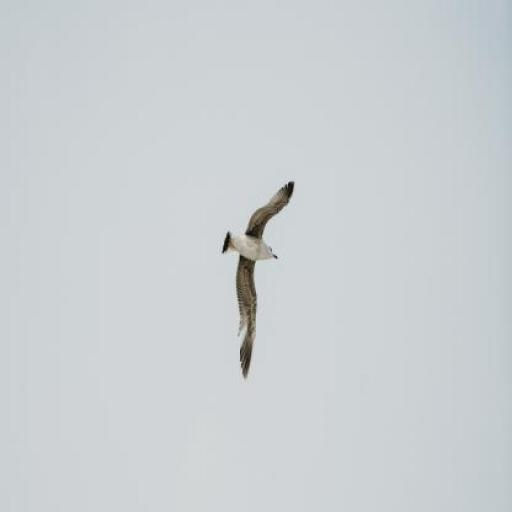bird: (221, 180, 293, 379)
